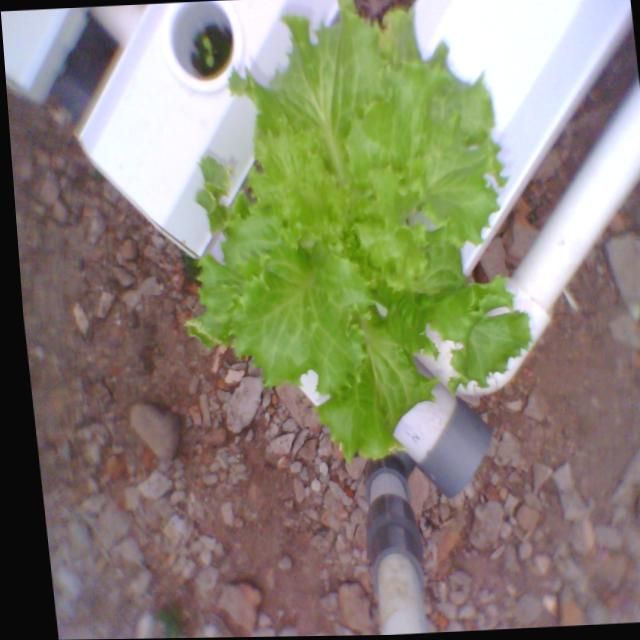FN: (158, 0, 563, 480)
